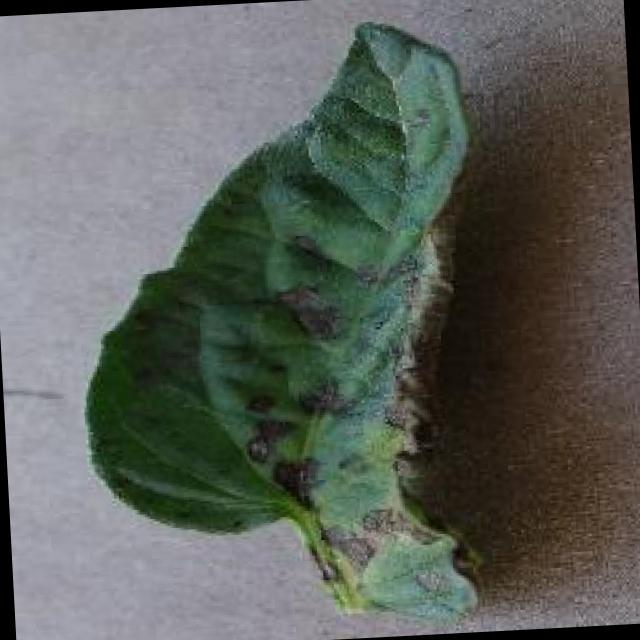Tomato_Early_Blight: (262, 198, 502, 629)
